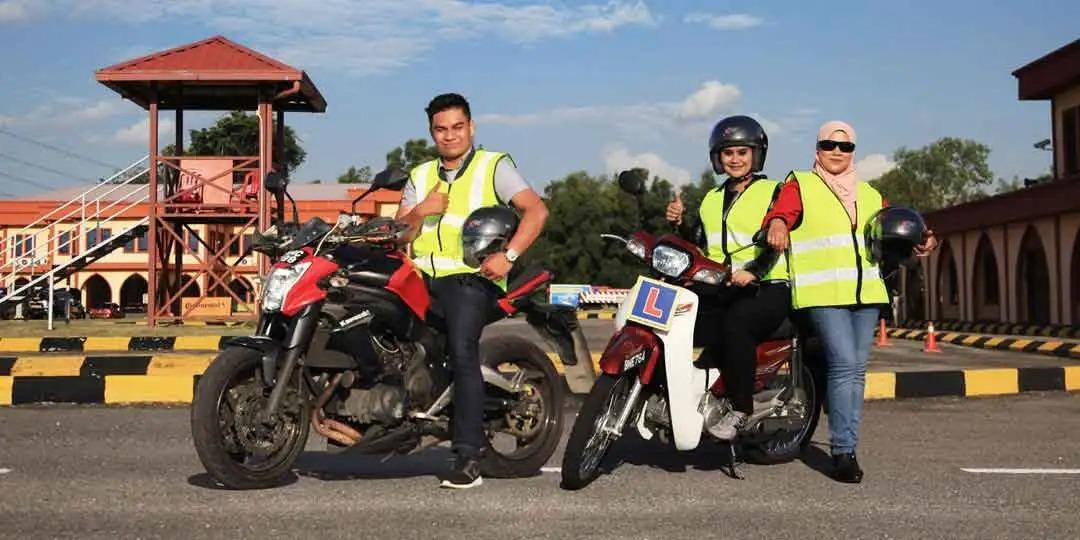helmet: (461, 206, 523, 270), (708, 115, 769, 178), (863, 206, 927, 265)
nohelmet: (427, 92, 476, 159), (816, 119, 856, 178)
